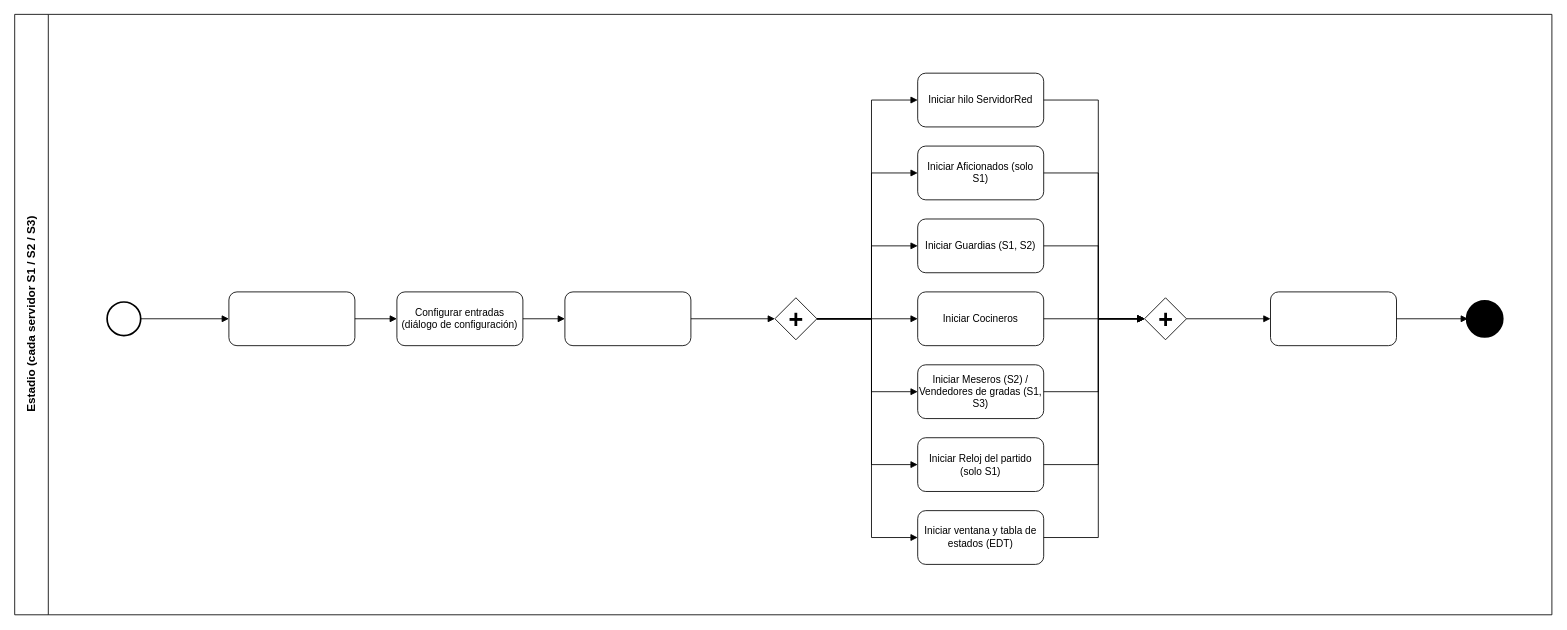
The diagram is 1567 pixels wide and 630 high, and some of its shapes have lost their labels. The box of each missing label's shape, as (x1, y1, x2, y2) in pixels:
Crear recursos del piso (búferes): (564, 291, 691, 346)
Iniciar el simulador (main) --piso --puerto --vecinos: (228, 291, 355, 346)
Procesos finales (estadísticas, cerrar sockets): (1270, 291, 1396, 346)
